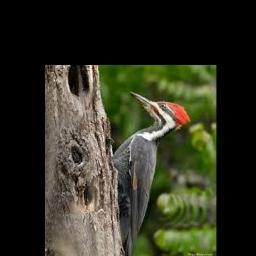Woodpecker: (111, 91, 190, 256)
